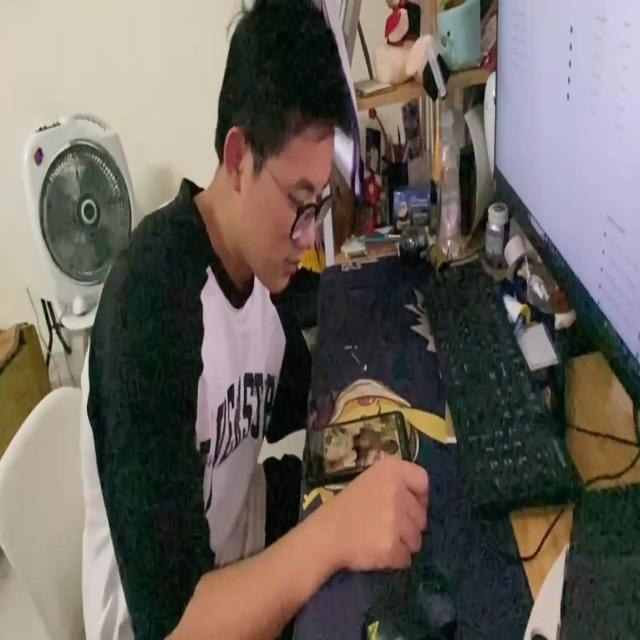laptop: (491, 0, 640, 416)
phone: (301, 409, 411, 478)
student: (75, 0, 428, 636)
